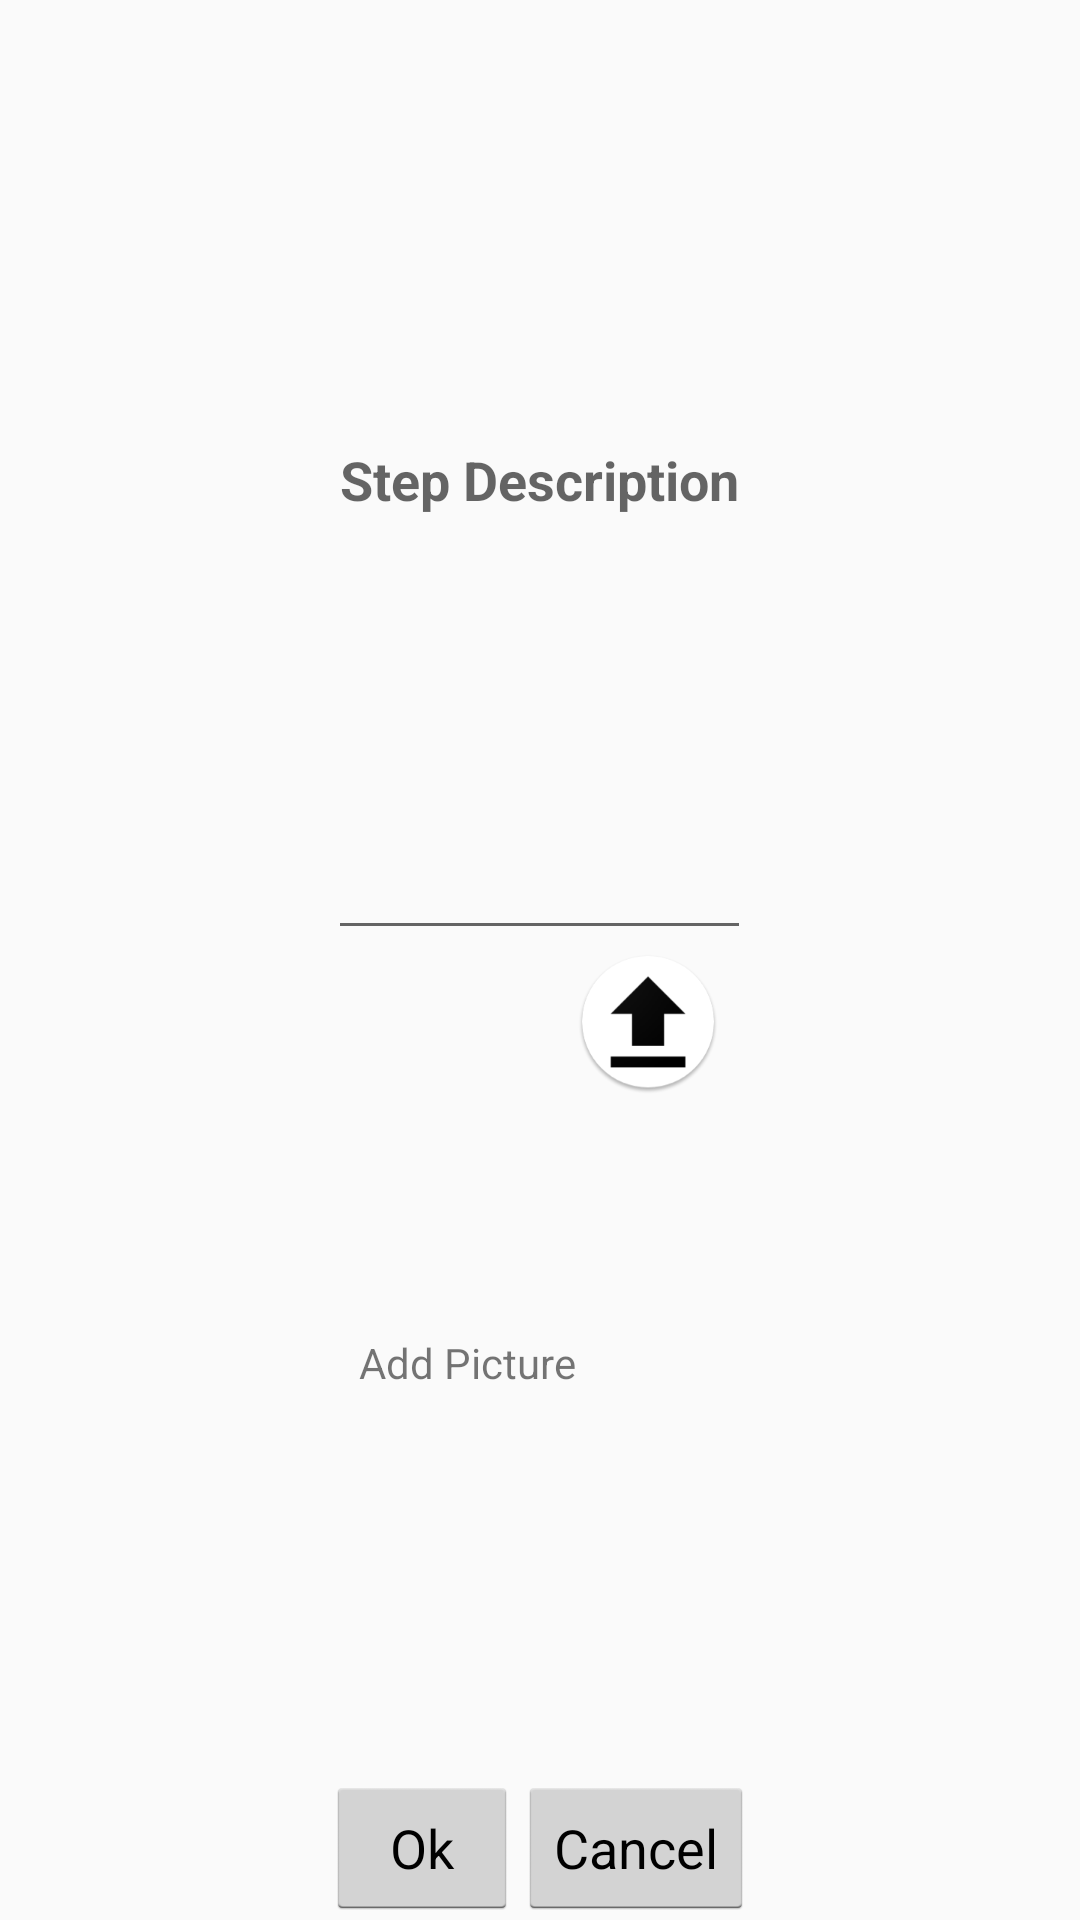

Icon bounding boxes for this 1080 x 1920 phone screenshot, format (x1, y1, x2, y2):
upload: (581, 976, 715, 1091)
